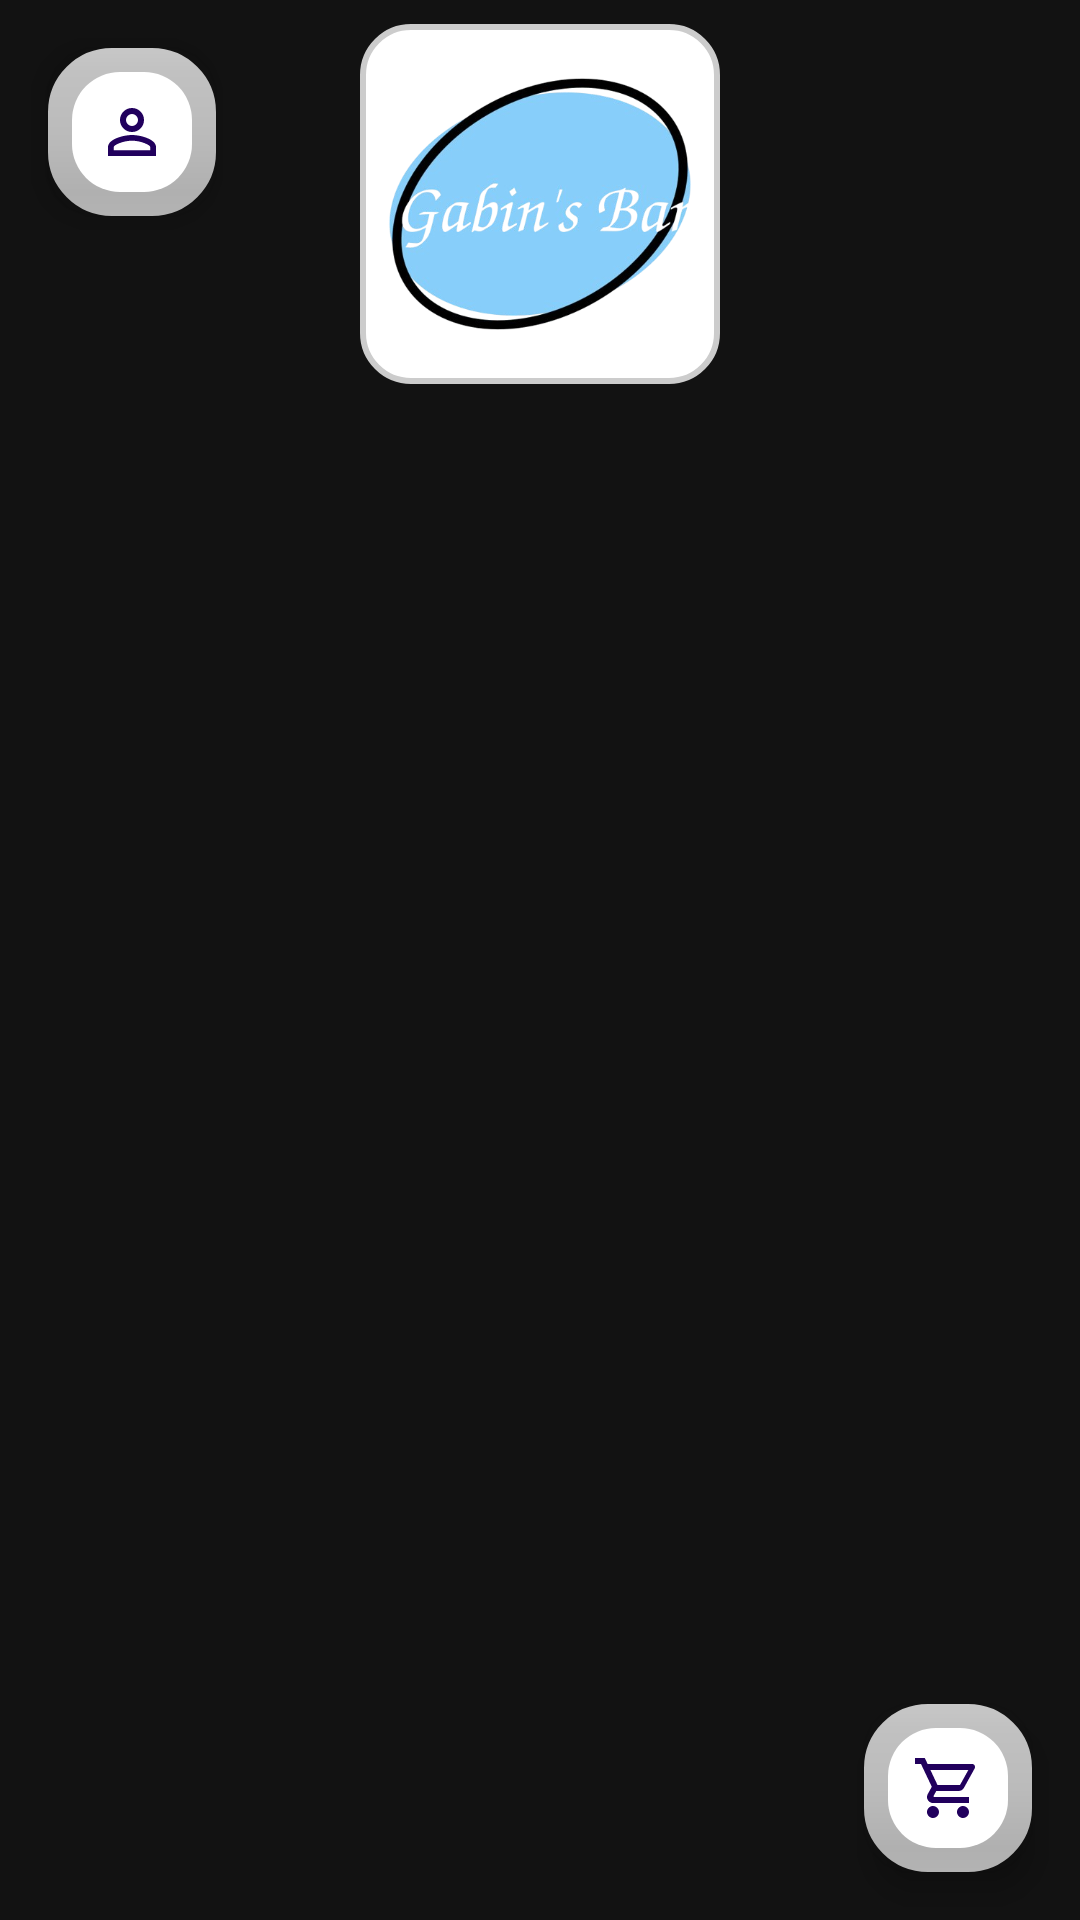

Point at icon controls on the screen. Image size 1080x1920, points as (x,y).
account: (132,132)
cart: (948,1788)
